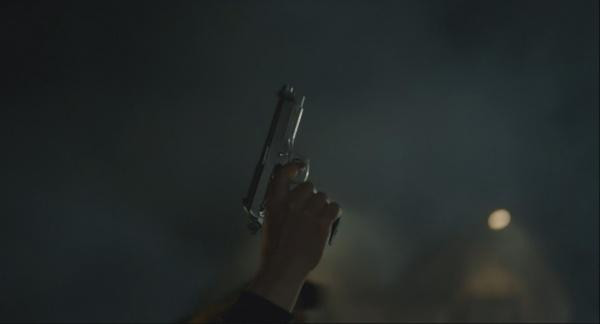Gun: (242, 83, 341, 247)
